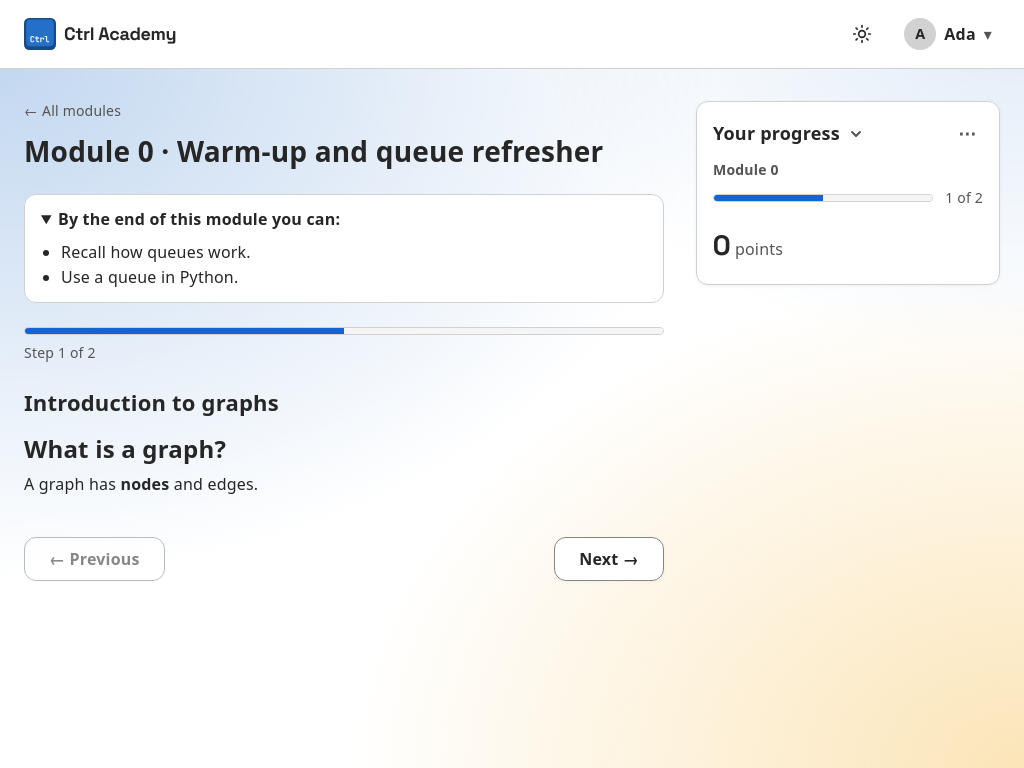
Test: ModulePage — navigation and position saving › shows the last segment when Next reaches it, and only leaves on "Finish module"
The width and height of the screenshot is (1024, 768).
Click the button "Next →" at x=609, y=559, box [554,537,664,581]
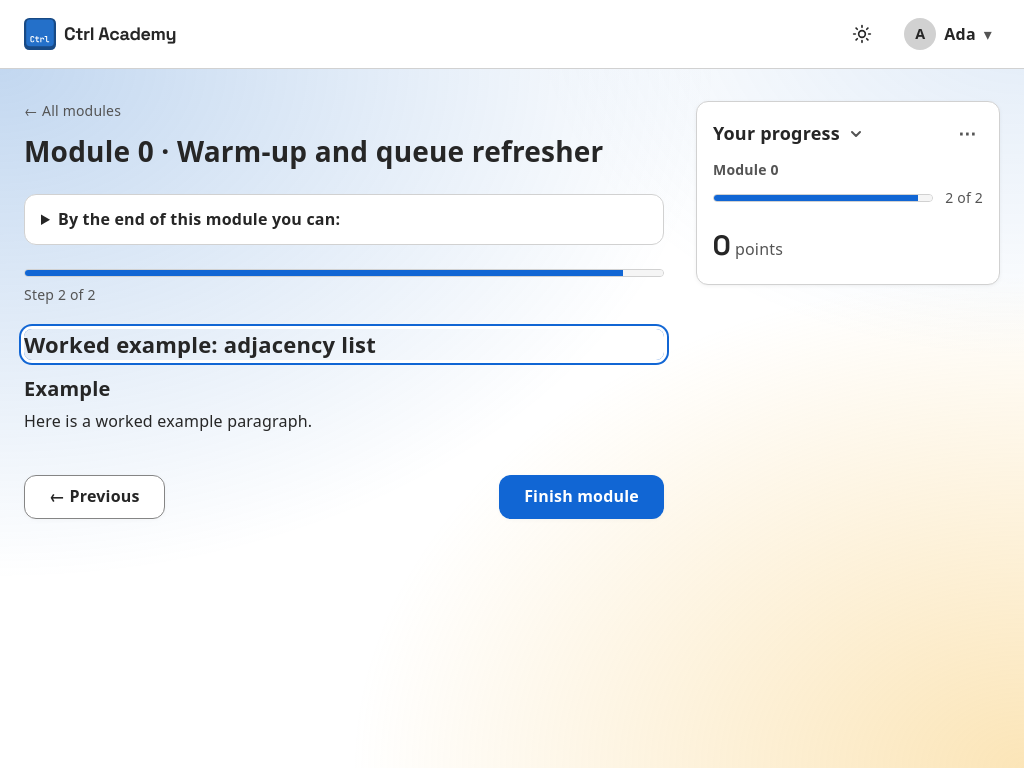
Check: the heading "Worked example: adjacency list" is shown, box [24,329,664,360]
Check: the button "Finish module" is shown, box [499,474,664,518]
